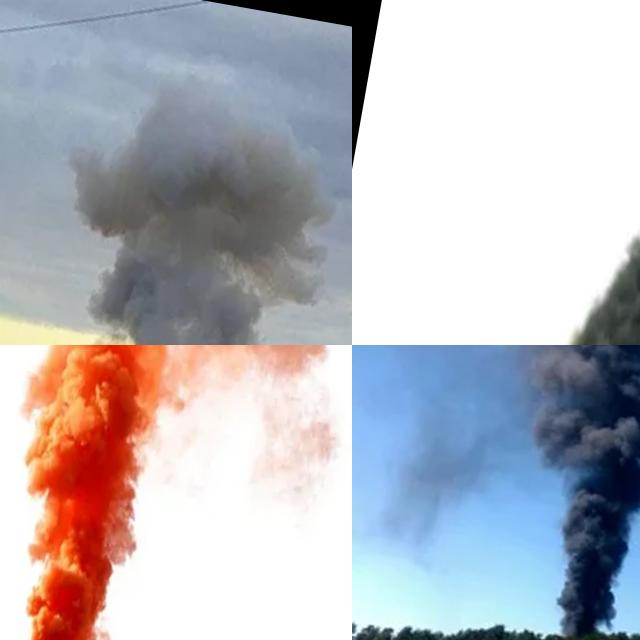smoke: (0, 345, 352, 640), (7, 68, 352, 345), (386, 345, 640, 640), (529, 0, 640, 345)
